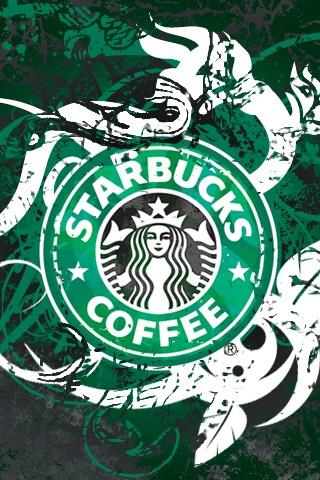starbucks: (47, 140, 270, 362)
